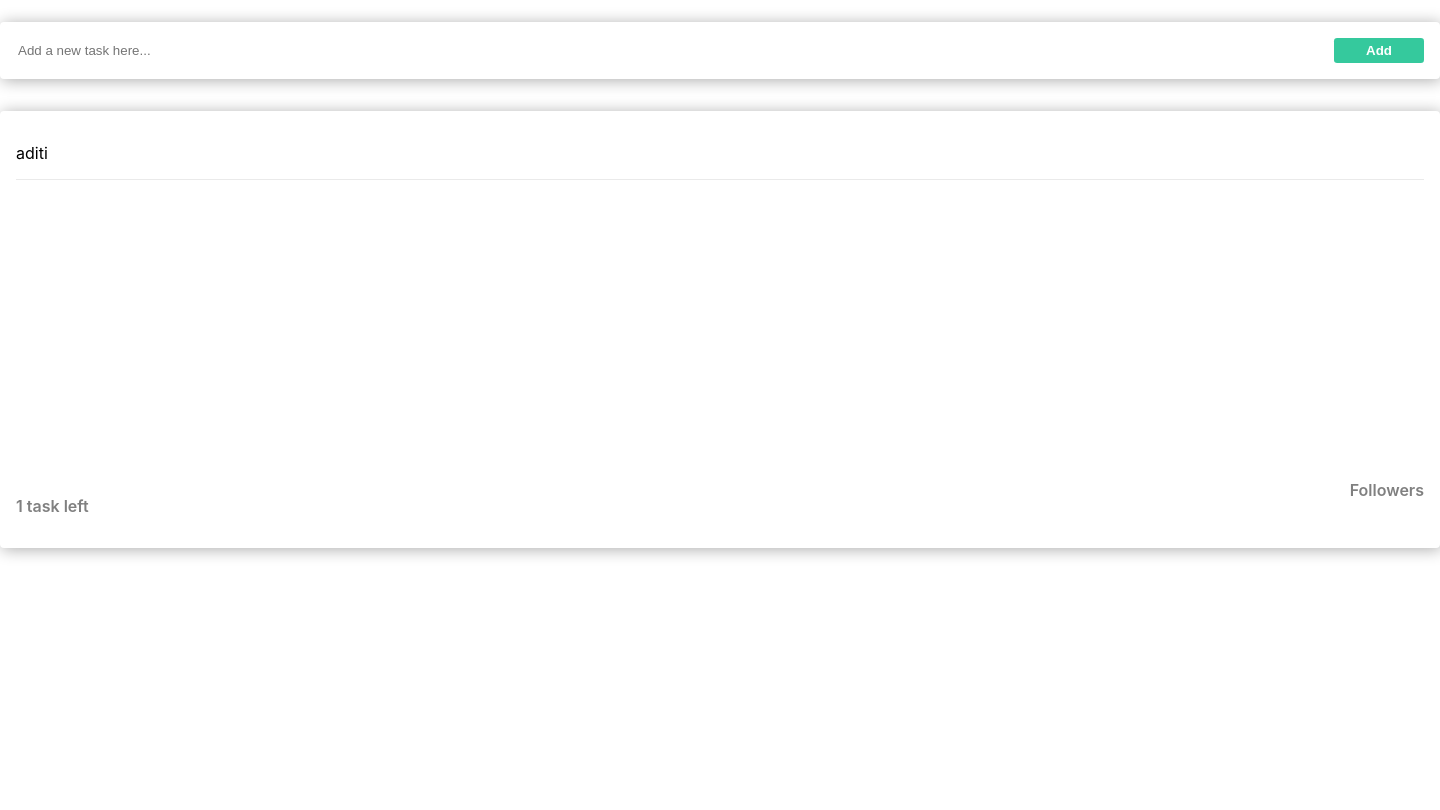
Scenario: Todo › should render same text passed into title prop
The image size is (1440, 810).
Type "new task" into the field with placeholder "Add a new task here..." at {"x": 652, "y": 50}, box 16,38 -> 1287,62
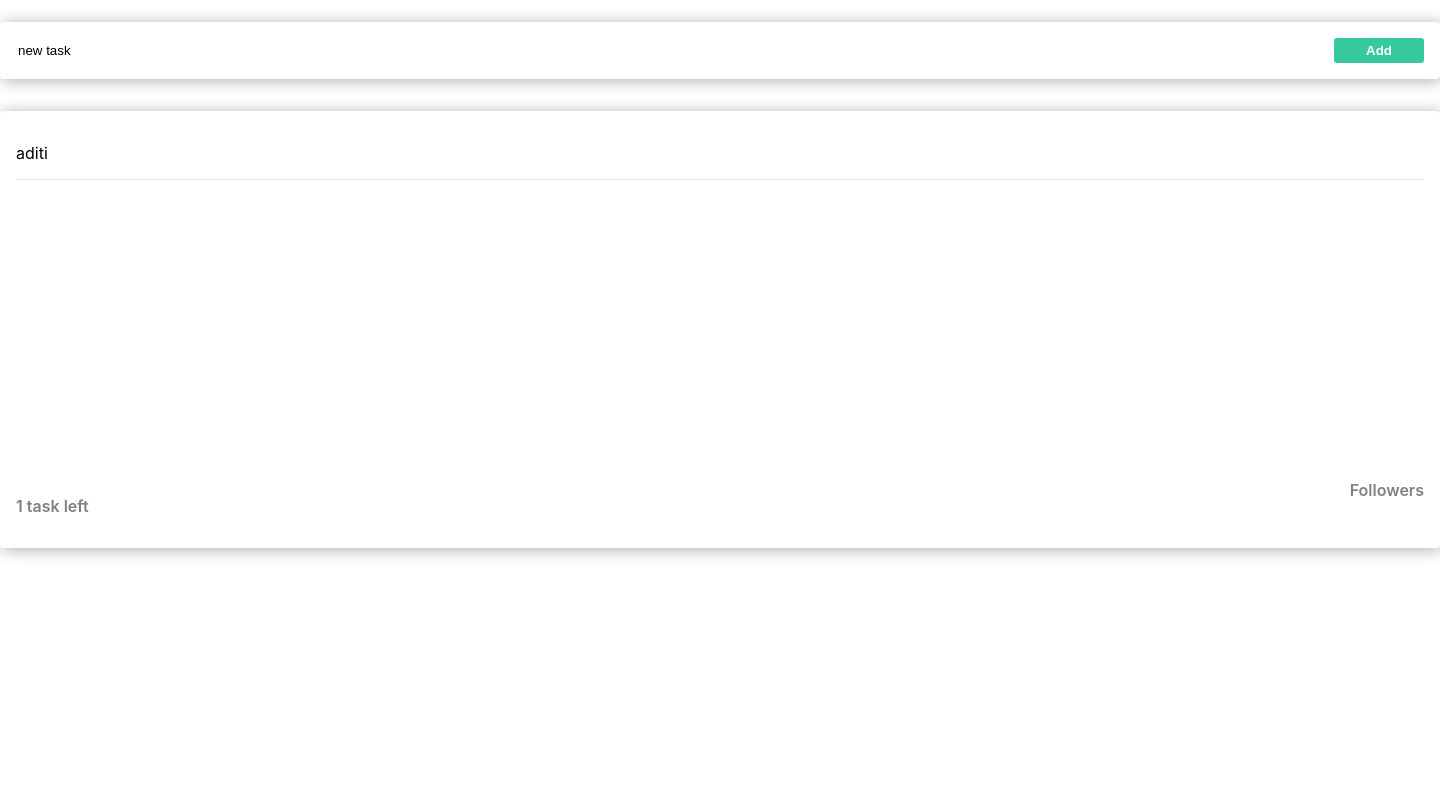
Click the button "Add" at {"x": 1379, "y": 50}, box 1334,38 -> 1424,62
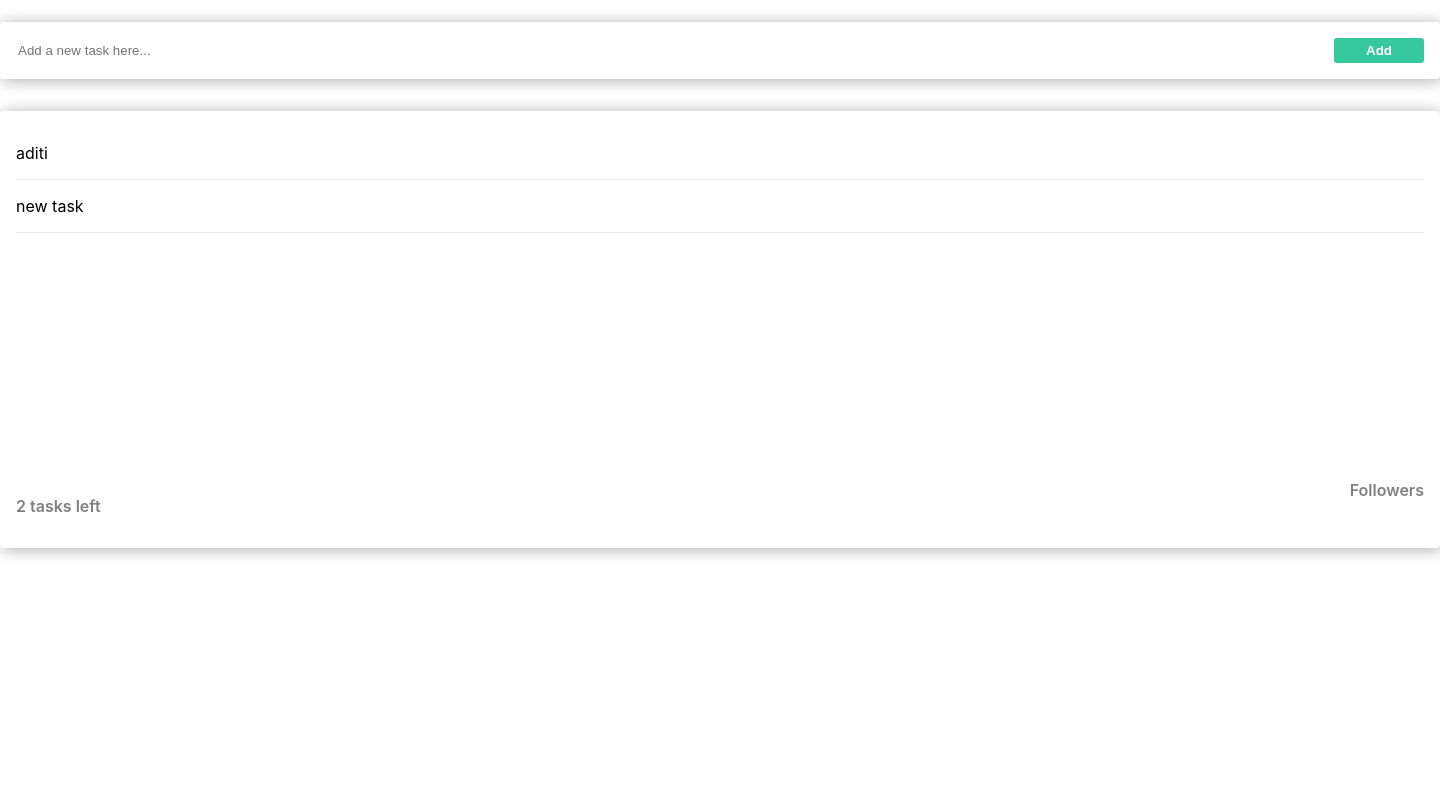
Result: the text "new task" is shown at 16,180 -> 1424,232
